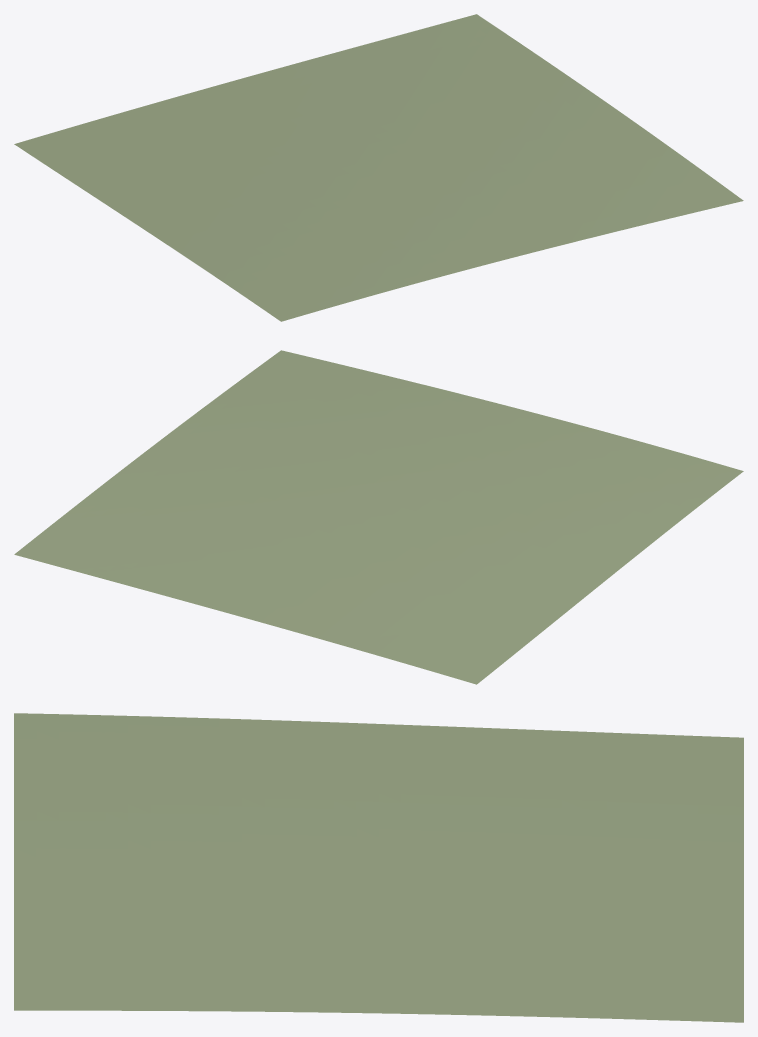
The model's file is expanse-10-27.glb.
3 views of the same model, one above another, from view 1: azimuth 30°, elevation 25°; view 2: azimuth 150°, elevation 25°; view 3: azimuth 270°, elevation 25° (orthographic). The views are drawn at different scales.
Parts seen in each view (by area): view 1: expanse-10-27; view 2: expanse-10-27; view 3: expanse-10-27.
Boxes of the visible parts, box(x1,y1,x2,y2) form: expanse-10-27: box(14, 14, 743, 321); expanse-10-27: box(14, 350, 743, 684); expanse-10-27: box(14, 713, 743, 1022).
Size of the model in its own units: 256 by 13.92 by 256.
